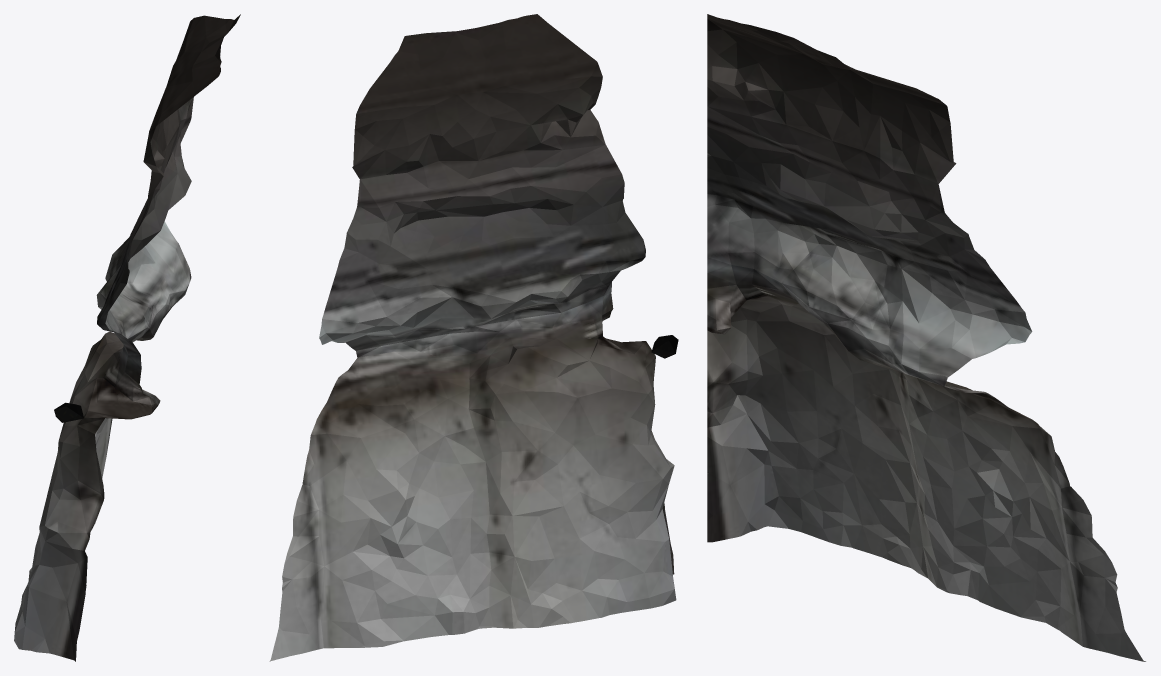
3 renders of one model, left to right at view 1: azimuth 30°, elevation 25°; view 2: azimuth 150°, elevation 25°; view 3: azimuth 270°, elevation 25°, orthographic. The views are drawn at different scales.
Bounding box in the file's own units: 0.4044 × 0.8373 × 0.5508.
Materials: 2 (2 with a texture image).
